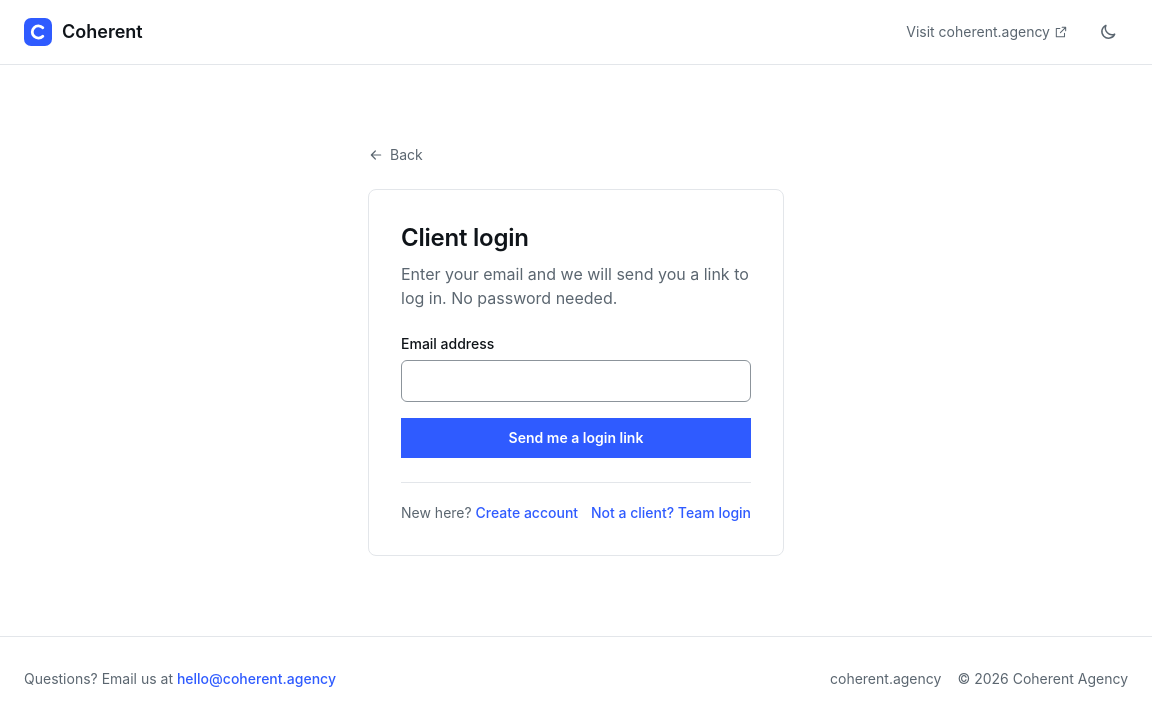
login › an unknown email shows the "Create account" prompt
Type "new@person.test" into the field labelled "Email address" at (576, 381), box [401,360,751,402]
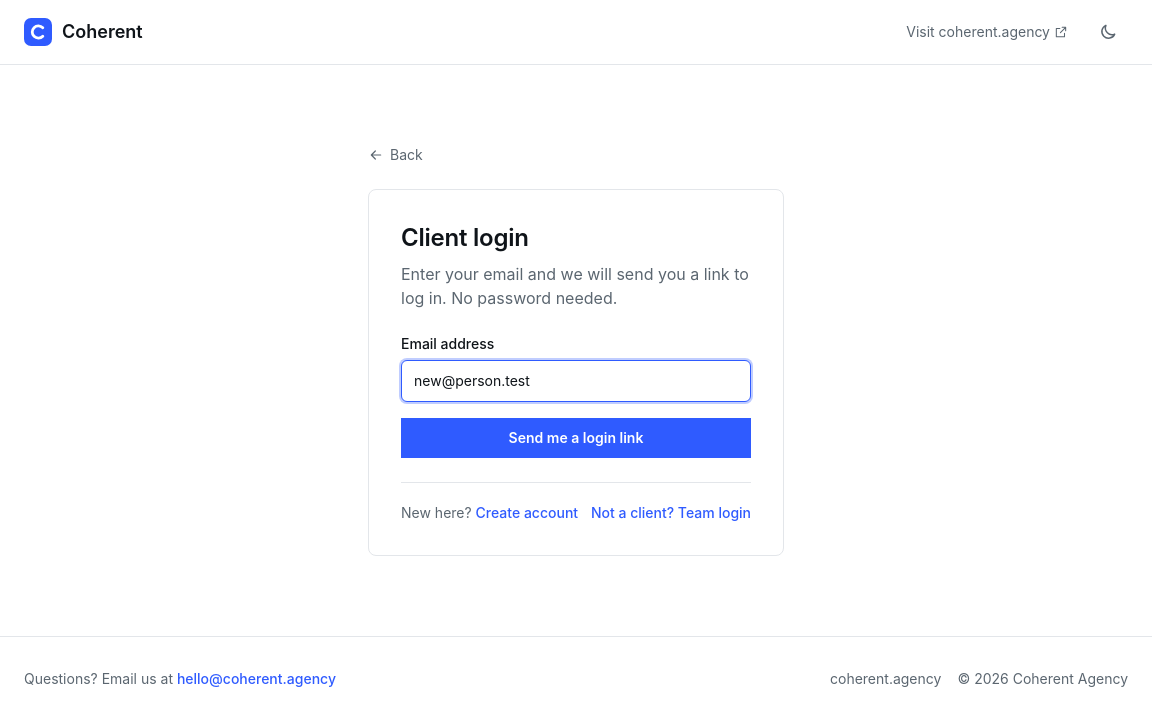
Click the button "Send me a login link" at (576, 438), box [401,418,751,458]
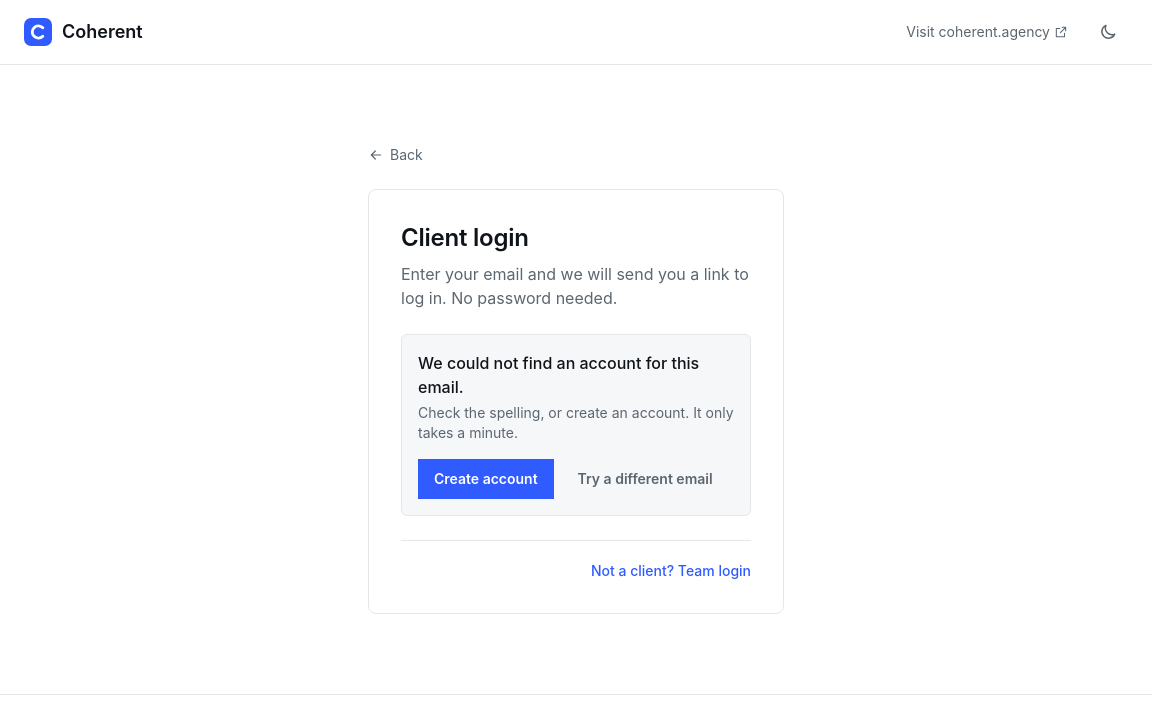
Result: the text "We could not find an account for this email." is shown at [418,351,734,399]
